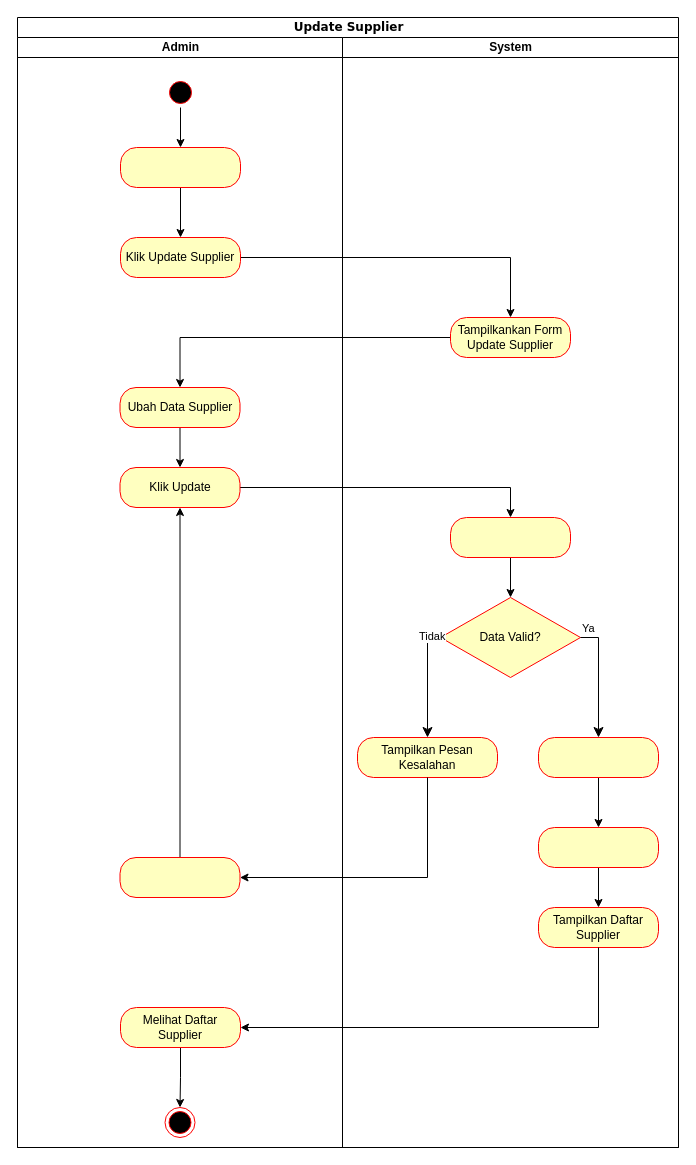
This 696x1165 diagram has some shape labels left out. The shapes that lost their labels are listed below. From the top down, each one's centre as x and y in pixels, then its label:
At pixel 180 167: "Pilih Menu Supplier".
At pixel 510 537: "Validasi Data".
At pixel 598 757: "Update Data Supplier".
At pixel 598 847: "Tampilkan Pesan Berhasil".
At pixel 179 877: "Perbaiki Data Supplier".
